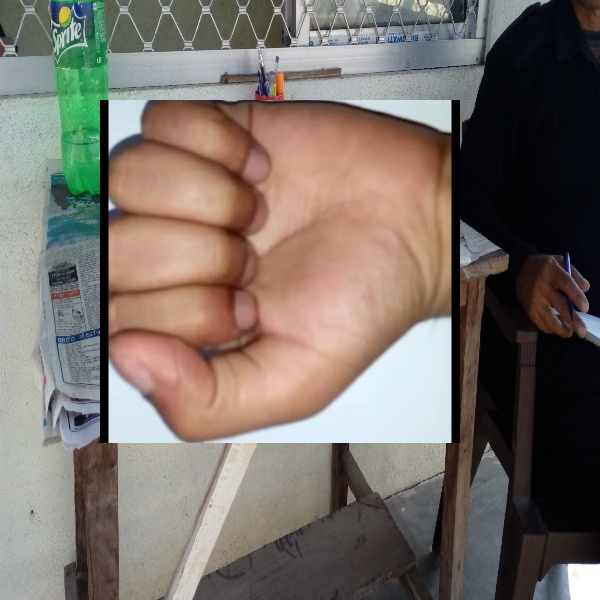A: (100, 100, 460, 443)
